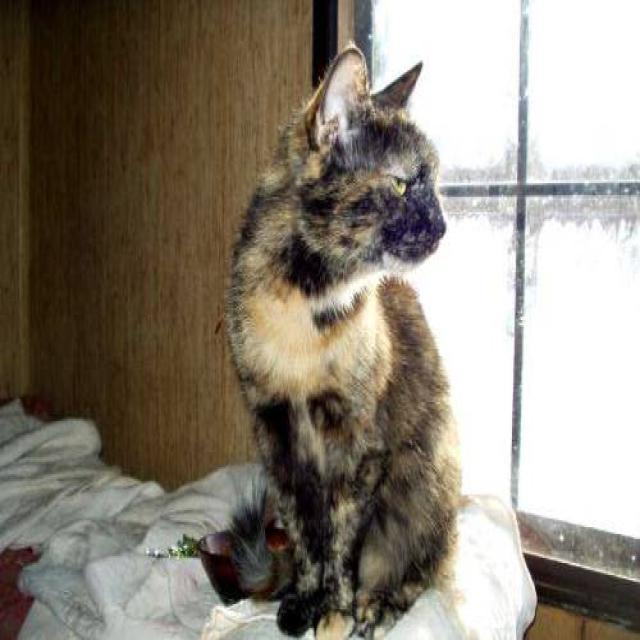cat: (198, 39, 464, 638)
